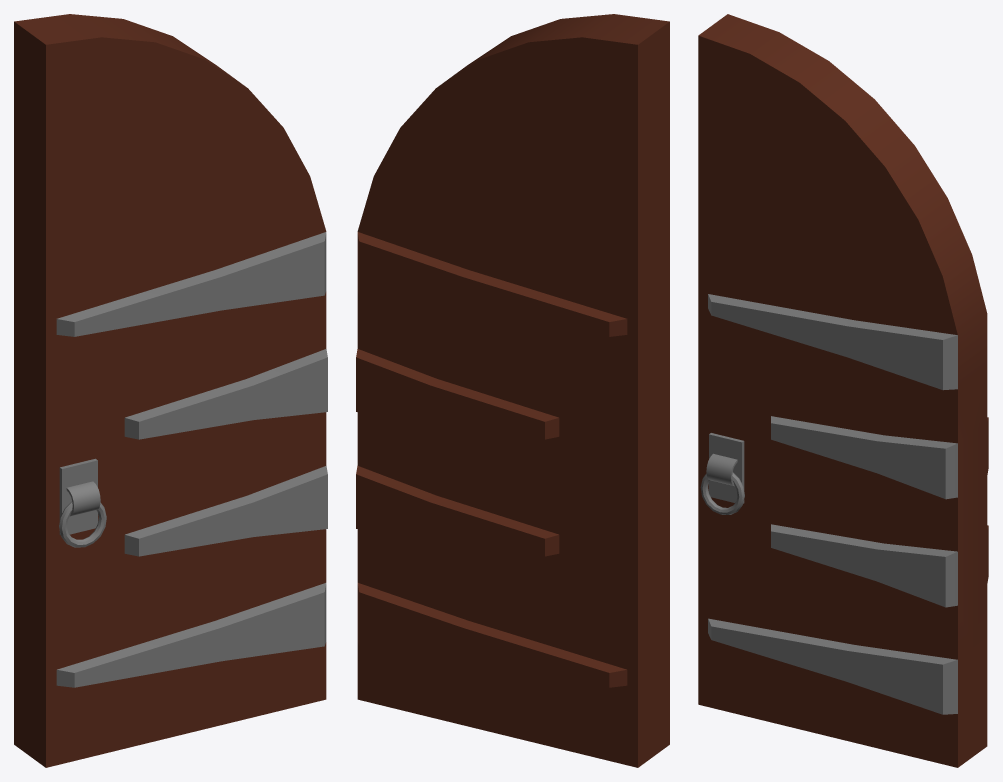
The model's file is dvereKeKonci-LEFT.fbx.
3 views of the same model, side by side, from view 1: azimuth 30°, elevation 25°; view 2: azimuth 150°, elevation 25°; view 3: azimuth 330°, elevation 25° (orthographic). The views are drawn at different scales.
Visible parts, largest first — view 1: Dveře; view 2: Dveře; view 3: Dveře.
Boxes of the visible parts, x1=… form: Dveře: x1=14, y1=14, x2=327, y2=767; Dveře: x1=356, y1=14, x2=669, y2=767; Dveře: x1=698, y1=14, x2=988, y2=767.
Bounding box in the file's own units: 290 × 714 × 87.39.
